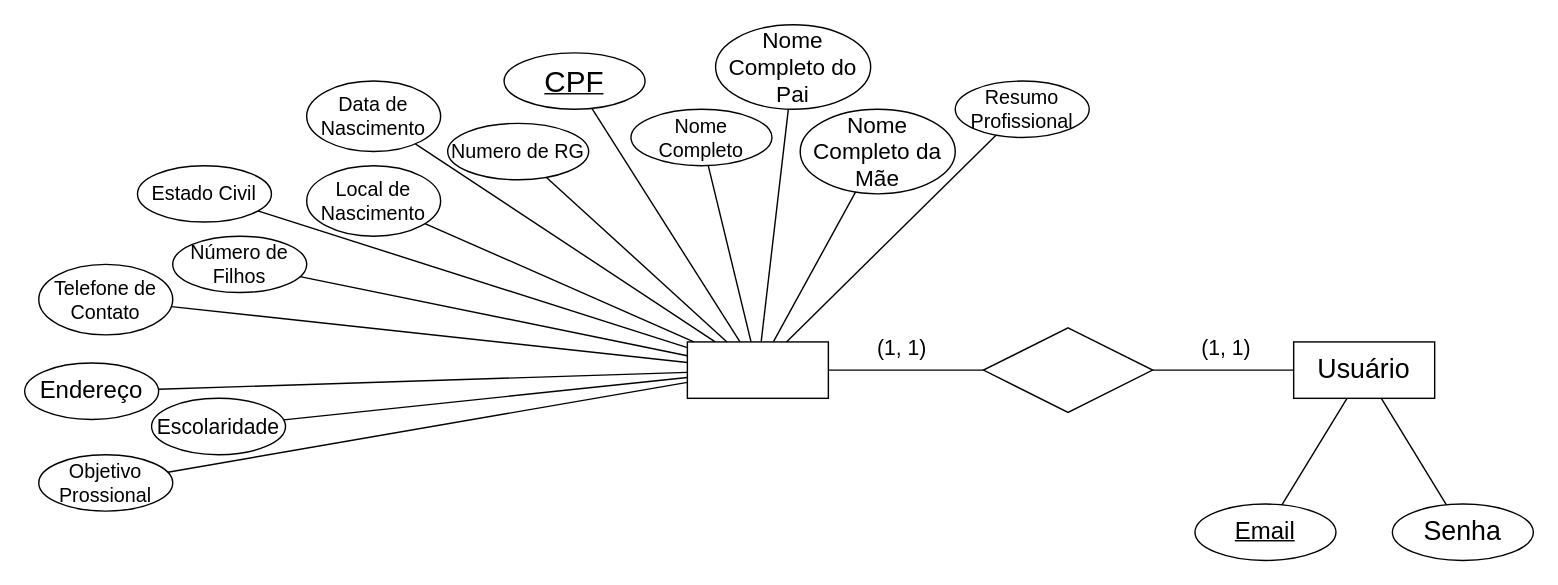
This 1558x585 diagram has some shape labels left out. The centre of each missing label's shape, as x and y in pixels:
"Apresenta" belongs at [1067,369].
"Trabalhador" belongs at [757,369].
